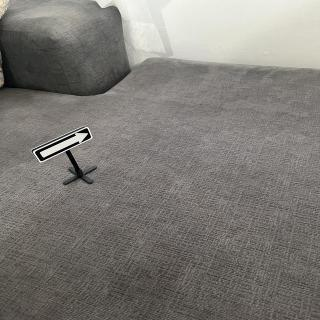sign_oneway_right: (32, 126, 95, 165)
